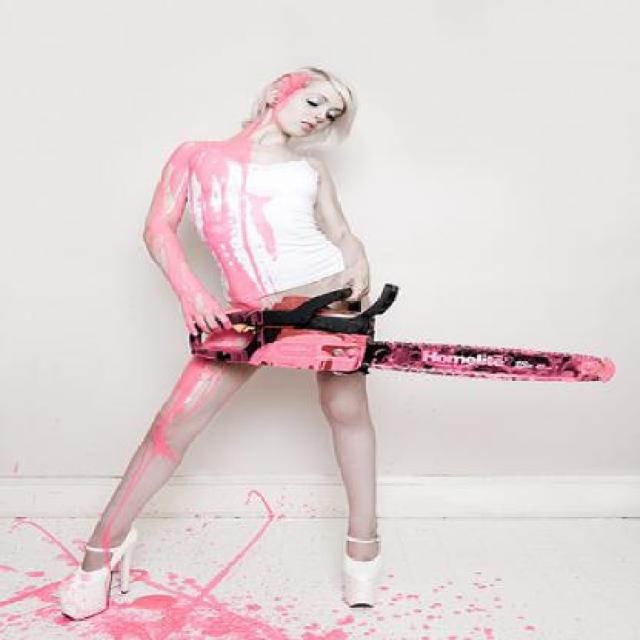Chainsaw: (184, 289, 618, 388)
